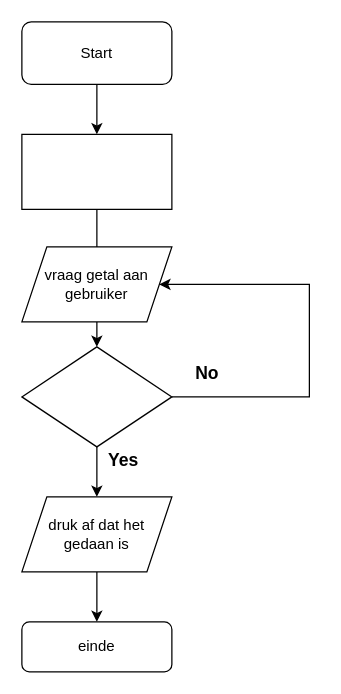
This 341x694 diagram has some shape labels left out. Here are the shapes that lost their labels. From the top down, the centre of each, then its label:
point (96, 171): generaar random getal
point (96, 396): als getal = randomgetal
